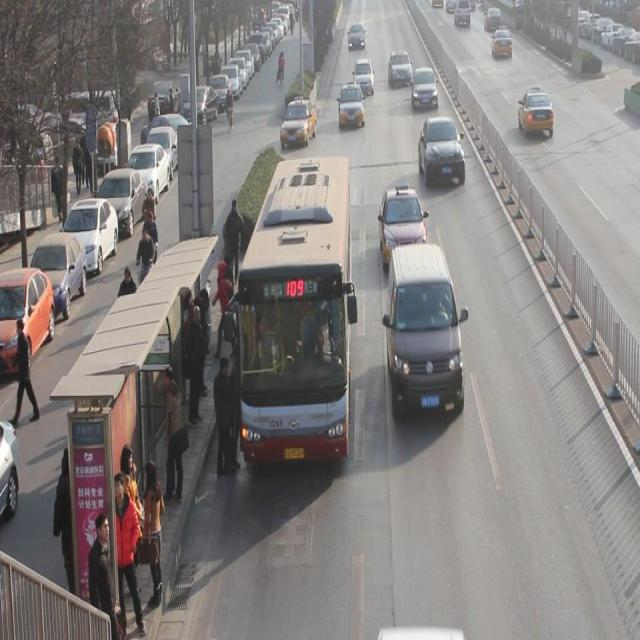car: (378, 185, 428, 264), (418, 115, 464, 186), (518, 84, 554, 138), (282, 96, 318, 148), (412, 66, 439, 110), (339, 83, 365, 128), (389, 50, 413, 87), (491, 24, 513, 60), (353, 56, 374, 93), (347, 22, 366, 50)
truck: (386, 243, 465, 412)
van: (235, 158, 348, 460)
